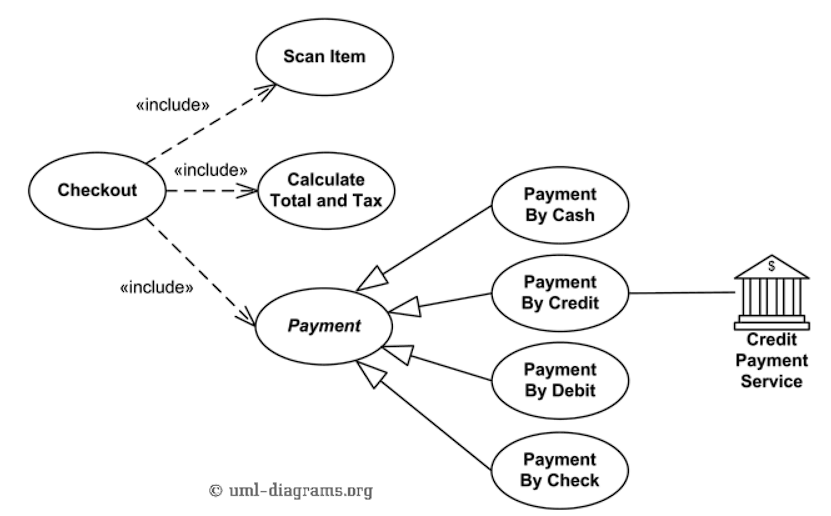actor: (733, 250, 816, 333)
association: (357, 360, 489, 468), (356, 203, 492, 292), (147, 217, 256, 327), (145, 82, 278, 162), (383, 342, 492, 384), (390, 290, 490, 319), (631, 284, 735, 300), (167, 181, 254, 200)
text: (204, 473, 384, 506), (729, 332, 811, 395), (268, 169, 382, 210), (514, 448, 604, 491), (517, 272, 606, 314), (519, 184, 602, 227), (520, 359, 601, 401), (51, 177, 143, 205), (280, 44, 368, 72), (282, 311, 370, 339), (116, 274, 198, 302), (131, 88, 211, 116), (171, 160, 252, 181)
use_case: (251, 285, 395, 368), (488, 339, 631, 422), (25, 149, 169, 231), (488, 163, 630, 246), (490, 429, 632, 512), (490, 252, 632, 334), (253, 17, 395, 98), (255, 151, 397, 232)
